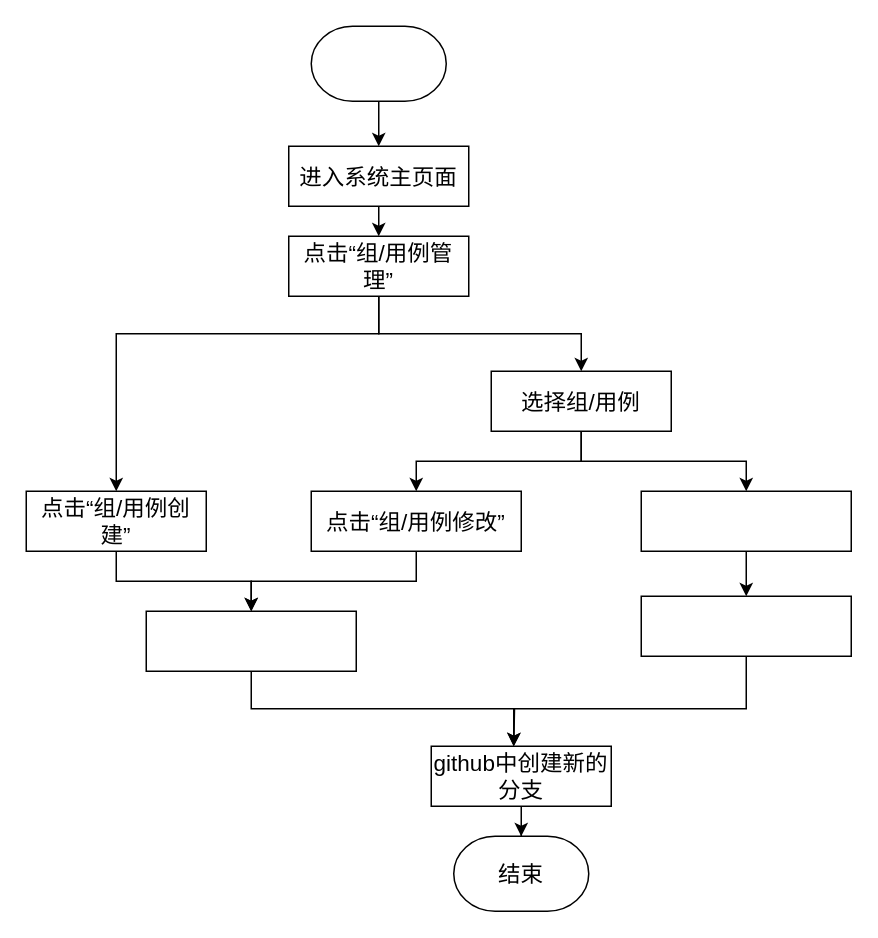
Some shapes in this 878 by 938 pixel diagram are drawn without their labels. The shapes that lost their labels are listed below. From the top down, each one's centre as x and y in pixels, then its label:
(x=378, y=63): 开始
(x=745, y=520): 点击“组/用例删除”
(x=250, y=640): 编辑组/用例信息并提交
(x=745, y=625): 删除成功
